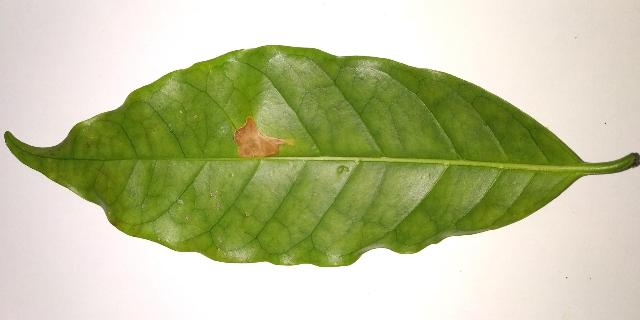cercospora: (233, 116, 296, 158)
